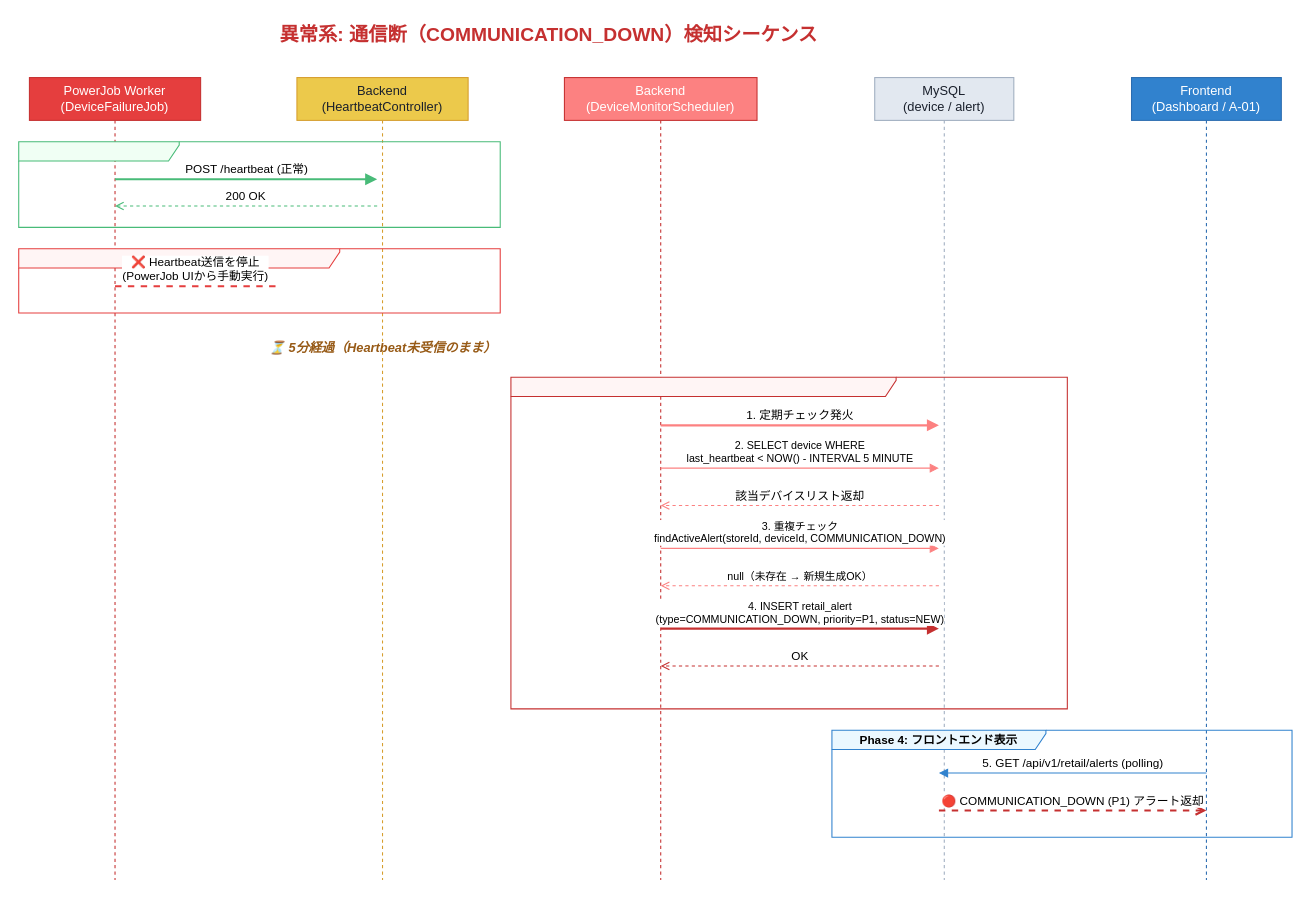
Some shapes in this 1311 by 899 pixel diagram are drawn without their labels. Each missing label, with the centre of its shape:
"Phase 1: 正常稼働中" belongs at [259,184].
"Phase 2: 障害注入 — Heartbeat送信停止" belongs at [259,280].
"Phase 3: 沈黙監視による検知 (@Scheduled 5分毎)" belongs at [788,542].
